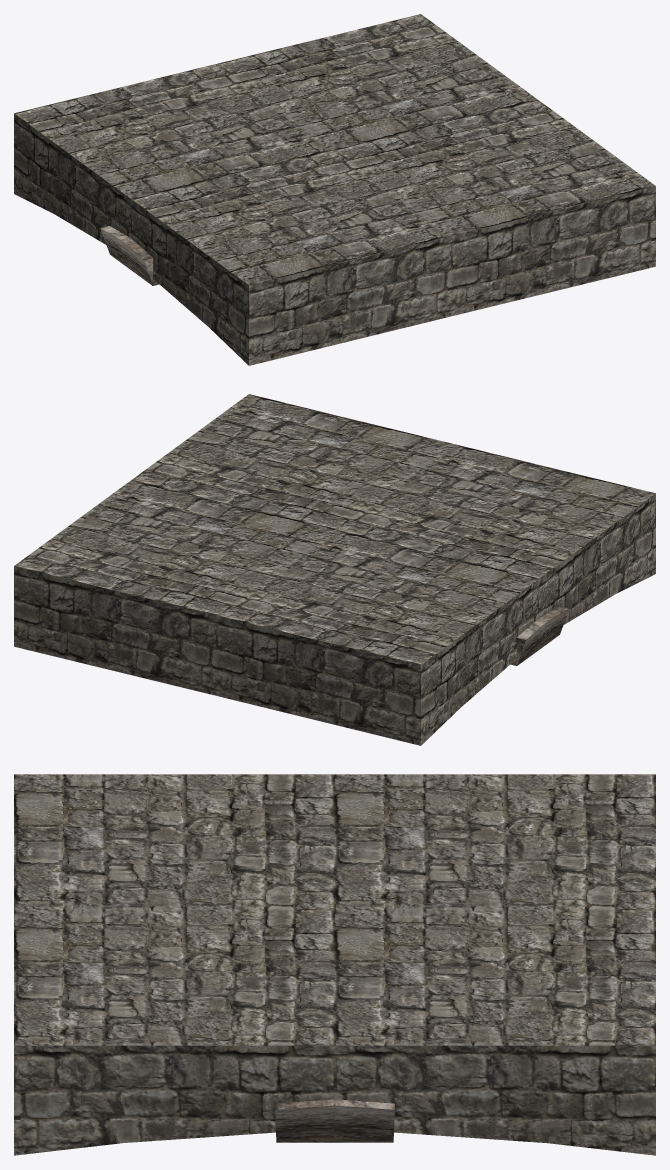
File: StoneBridge_CrownCenter.dae
3 views of the same model, one above another, from view 1: azimuth 30°, elevation 25°; view 2: azimuth 150°, elevation 25°; view 3: azimuth 270°, elevation 25° (orthographic). The views are drawn at different scales.
Visible parts, largest first — view 1: StoneBridgeCrownCenter, StoneBridgeCrownCenter2; view 2: StoneBridgeCrownCenter, StoneBridgeCrownCenter2; view 3: StoneBridgeCrownCenter, StoneBridgeCrownCenter2.
Boxes of the visible parts, x1,y1,x2,y2 form: StoneBridgeCrownCenter: (14, 14, 655, 365); StoneBridgeCrownCenter2: (100, 226, 159, 285); StoneBridgeCrownCenter: (14, 394, 655, 745); StoneBridgeCrownCenter2: (510, 606, 569, 665); StoneBridgeCrownCenter: (14, 774, 655, 1155); StoneBridgeCrownCenter2: (275, 1099, 394, 1142).
Size of the model in its own units: 4.18 by 0.757 by 4.
2 materials, 2 textured.
